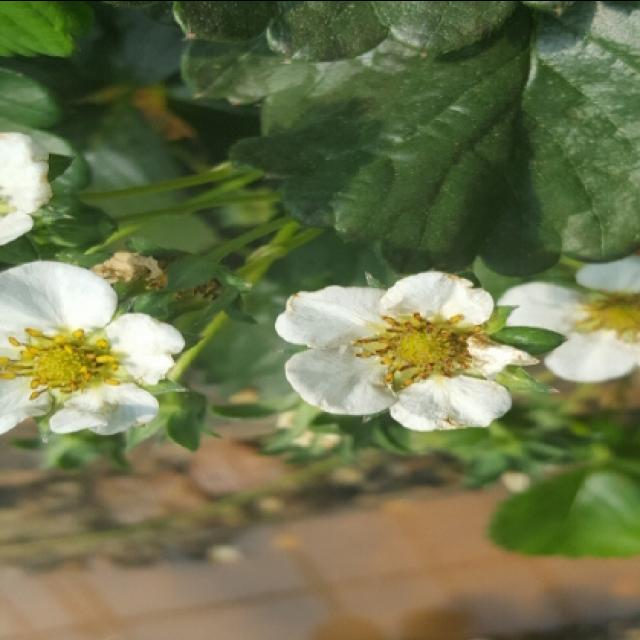Blossom Blight: (349, 303, 491, 394), (0, 322, 132, 402)
